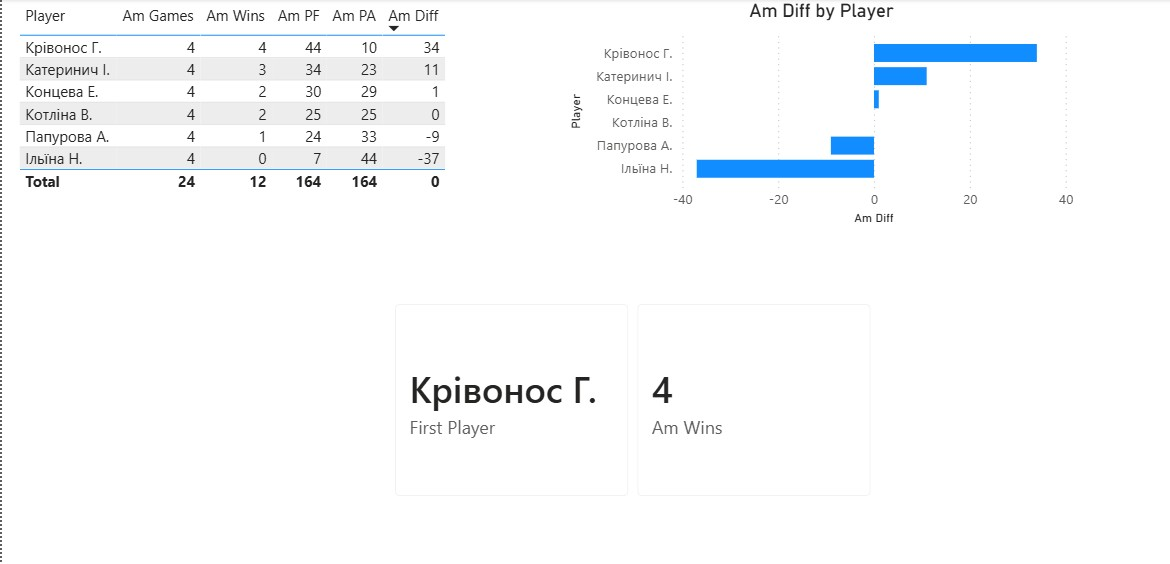

What the dashboard file says about the page in this screenshot:
{"tool":"powerbi","page":{"name":"Американо","canvas":[1280,720],"ordinal":3},"visuals":[{"type":"tableEx","fields":{"Values":["qAmericano.Player","_Measures.Am Games","_Measures.Am Wins","_Measures.Am PF","_Measures.Am PA","_Measures.Am Diff"]},"box":[9.7,0,461,192.6],"z":0},{"type":"clusteredBarChart","fields":{"Category":["qAmericano.Player"],"Y":["_Measures.Am Diff"]},"box":[9.7,236.4,461,207.2],"z":1},{"type":"cardVisual","fields":{"Data":["Min(qAmericano.Player)","_Measures.Am Wins"]},"box":[10,468,461,207],"z":2}]}

Visuals, with their boxes on the page's 1280x720 design canvas (x1, y1, x2, y2). These are canvas units, not pixel positions in the 1170x564 screenshot, which may show the page scaled, cropped or inside an application window:
tableEx - qAmericano.Player x _Measures.Am Games: (left=10, top=0, right=471, bottom=193)
clusteredBarChart - qAmericano.Player x _Measures.Am Diff: (left=10, top=236, right=471, bottom=444)
cardVisual - Min(qAmericano.Player) x _Measures.Am Wins: (left=10, top=468, right=471, bottom=675)
